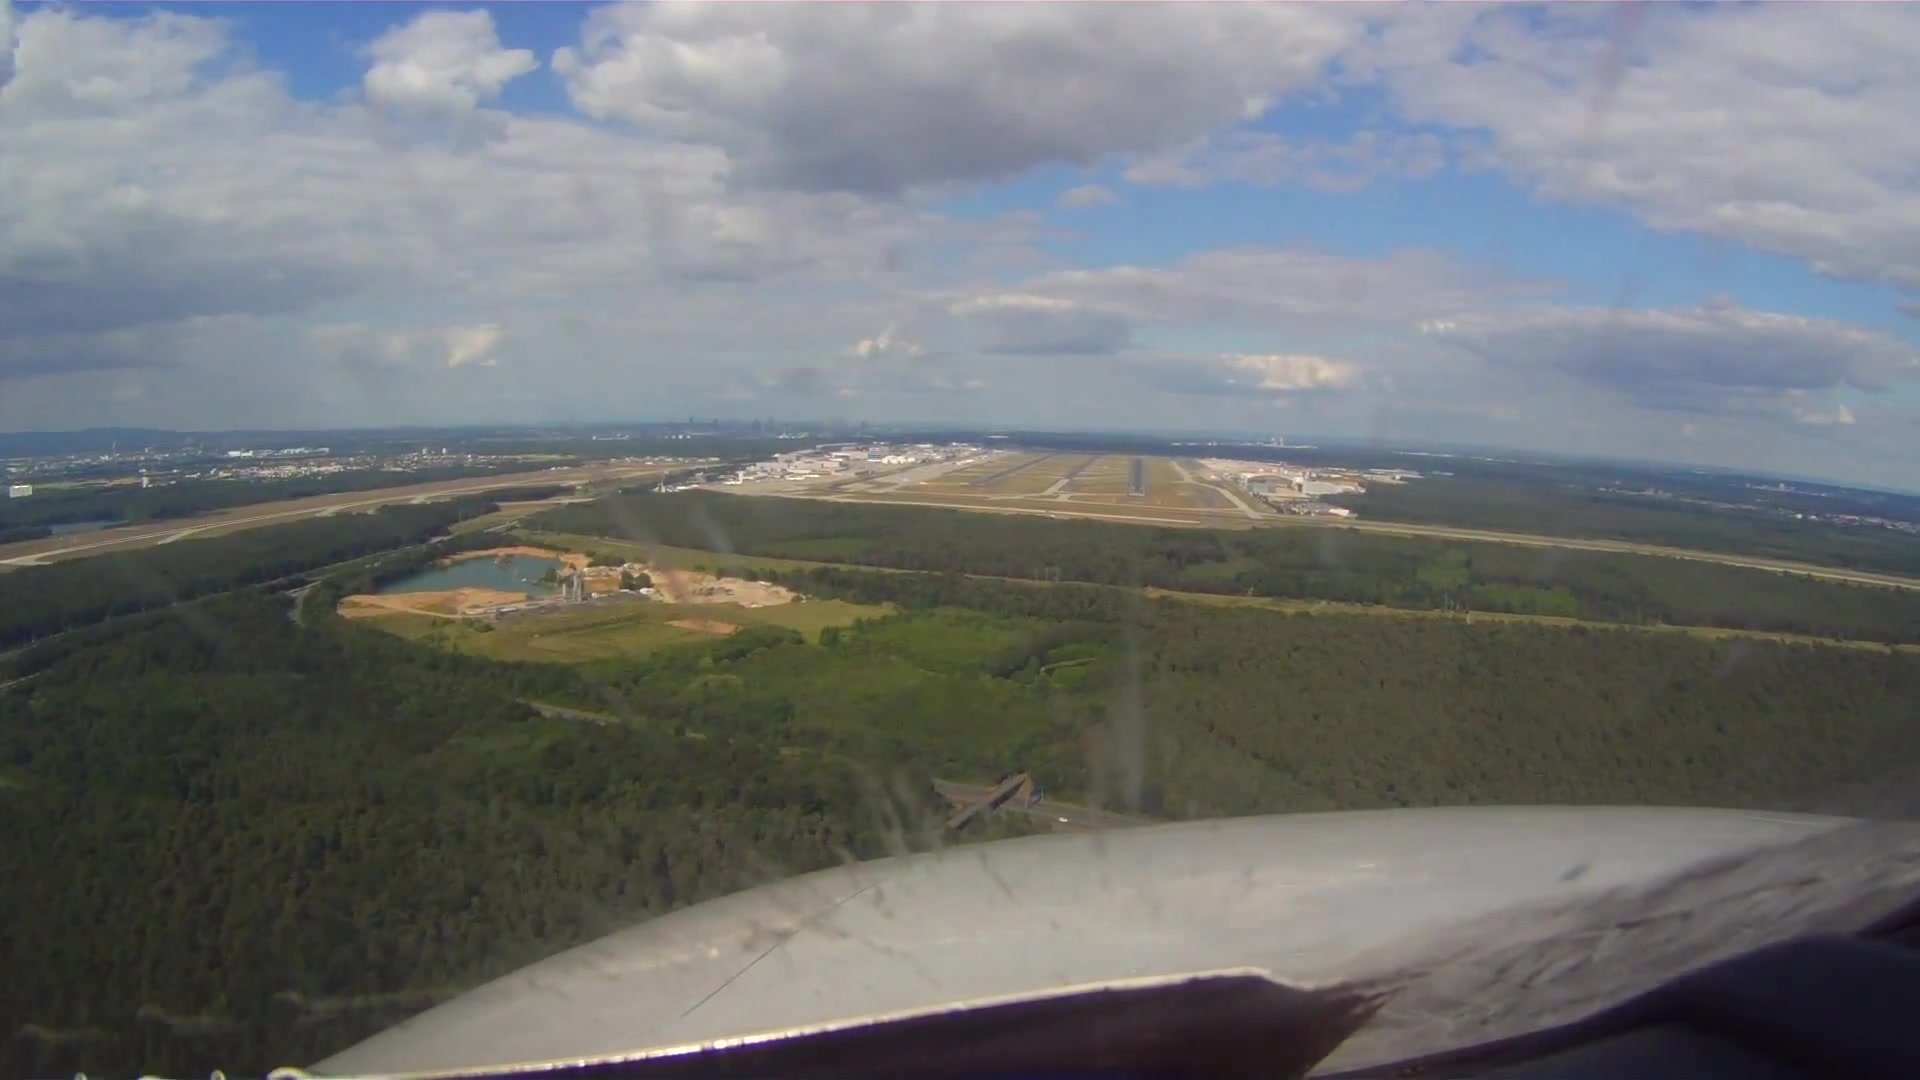runway: (1125, 454, 1147, 498)
